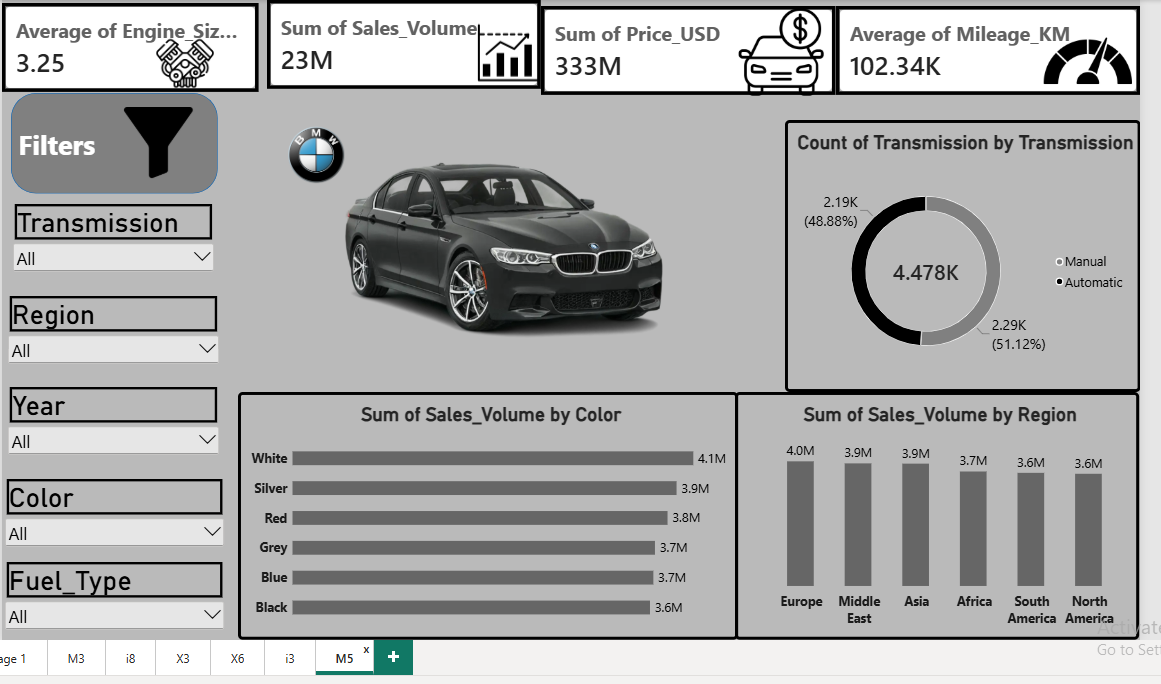

What the dashboard file says about the page in this screenshot:
{"tool":"powerbi","page":{"name":"M5","canvas":[1920,1080],"ordinal":6},"visuals":[{"type":"image","box":[375.9,150.4,940.7,553.3],"z":0},{"type":"slicer","fields":{"Values":["BMW_Car_Sales_Classification (1).Year"]},"box":[5.8,653.5,366.3,129.2],"z":1000},{"type":"slicer","fields":{"Values":["BMW_Car_Sales_Classification (1).Region"]},"box":[5.8,499.3,366.3,129.2],"z":2000},{"type":"slicer","fields":{"Values":["BMW_Car_Sales_Classification (1).Transmission"]},"box":[13.5,345.1,348.9,129.2],"z":3000},{"type":"slicer","fields":{"Values":["BMW_Car_Sales_Classification (1).Color"]},"box":[0,807.7,379.8,115.7],"z":4000},{"type":"slicer","fields":{"Values":["BMW_Car_Sales_Classification (1).Fuel_Type"]},"box":[0,948.4,379.8,131.1],"z":5000},{"type":"shape","box":[15.4,156.1,348.9,169.6],"z":6000},{"type":"image","box":[165.8,181.2,196.6,119.5],"z":7000},{"type":"image","box":[399,177.3,264.1,167.7],"z":8000},{"type":"barChart","fields":{"Category":["BMW_Car_Sales_Classification (1).Color"],"Y":["Sum(BMW_Car_Sales_Classification (1).Sales_Volume)"]},"box":[399,661.2,844.3,418.3],"z":9000},{"type":"columnChart","fields":{"Category":["BMW_Car_Sales_Classification (1).Region"],"Y":["Sum(BMW_Car_Sales_Classification (1).Sales_Volume)"]},"box":[1237.6,661.2,682.4,418.3],"z":10000},{"type":"donutChart","fields":{"Category":["BMW_Car_Sales_Classification (1).Transmission"],"Y":["CountNonNull(BMW_Car_Sales_Classification (1).Transmission)"]},"box":[1320.5,202.4,599.5,458.8],"z":11000},{"type":"cardVisual","fields":{"Data":["Sum(BMW_Car_Sales_Classification (1).Sales_Volume)"]},"box":[447.2,0,462.7,150.4],"z":12000},{"type":"cardVisual","fields":{"Data":["Sum(BMW_Car_Sales_Classification (1).Price_USD)"]},"box":[909.9,9.6,497.3,150.4],"z":13000},{"type":"cardVisual","fields":{"Data":["Avg(BMW_Car_Sales_Classification (1).Mileage_KM)"]},"box":[1407,10,513,150],"z":14000},{"type":"image","box":[1224.1,13.5,183.1,148.4],"z":15000},{"type":"image","box":[801.9,0,108,177.3],"z":17000},{"type":"image","box":[1744.6,28.9,175.4,148.4],"z":18000},{"type":"cardVisual","fields":{"Data":["Avg(BMW_Car_Sales_Classification (1).Engine_Size_L)"]},"box":[0,5.8,433.7,150.4],"z":19000},{"type":"image","box":[165.8,59.8,287.2,96.4],"z":20000}]}

Visuals, with their boxes on the page's 1920x1080 design canvas (x1, y1, x2, y2). These are canvas units, not pixel positions in the 1161x684 screenshot, which may show the page scaled, cropped or inside an application window:
image: select_region(376, 150, 1317, 704)
slicer - BMW_Car_Sales_Classification (1).Year: select_region(6, 654, 372, 783)
slicer - BMW_Car_Sales_Classification (1).Region: select_region(6, 499, 372, 628)
slicer - BMW_Car_Sales_Classification (1).Transmission: select_region(14, 345, 362, 474)
slicer - BMW_Car_Sales_Classification (1).Color: select_region(0, 808, 380, 923)
slicer - BMW_Car_Sales_Classification (1).Fuel_Type: select_region(0, 948, 380, 1080)
shape: select_region(15, 156, 364, 326)
image: select_region(166, 181, 362, 301)
image: select_region(399, 177, 663, 345)
barChart - BMW_Car_Sales_Classification (1).Color x Sum(BMW_Car_Sales_Classification (1).Sales_Volume): select_region(399, 661, 1243, 1080)
columnChart - BMW_Car_Sales_Classification (1).Region x Sum(BMW_Car_Sales_Classification (1).Sales_Volume): select_region(1238, 661, 1920, 1080)
donutChart - BMW_Car_Sales_Classification (1).Transmission x CountNonNull(BMW_Car_Sales_Classification (1).Transmission): select_region(1320, 202, 1920, 661)
cardVisual - Sum(BMW_Car_Sales_Classification (1).Sales_Volume): select_region(447, 0, 910, 150)
cardVisual - Sum(BMW_Car_Sales_Classification (1).Price_USD): select_region(910, 10, 1407, 160)
cardVisual - Avg(BMW_Car_Sales_Classification (1).Mileage_KM): select_region(1407, 10, 1920, 160)
image: select_region(1224, 14, 1407, 162)
image: select_region(802, 0, 910, 177)
image: select_region(1745, 29, 1920, 177)
cardVisual - Avg(BMW_Car_Sales_Classification (1).Engine_Size_L): select_region(0, 6, 434, 156)
image: select_region(166, 60, 453, 156)
